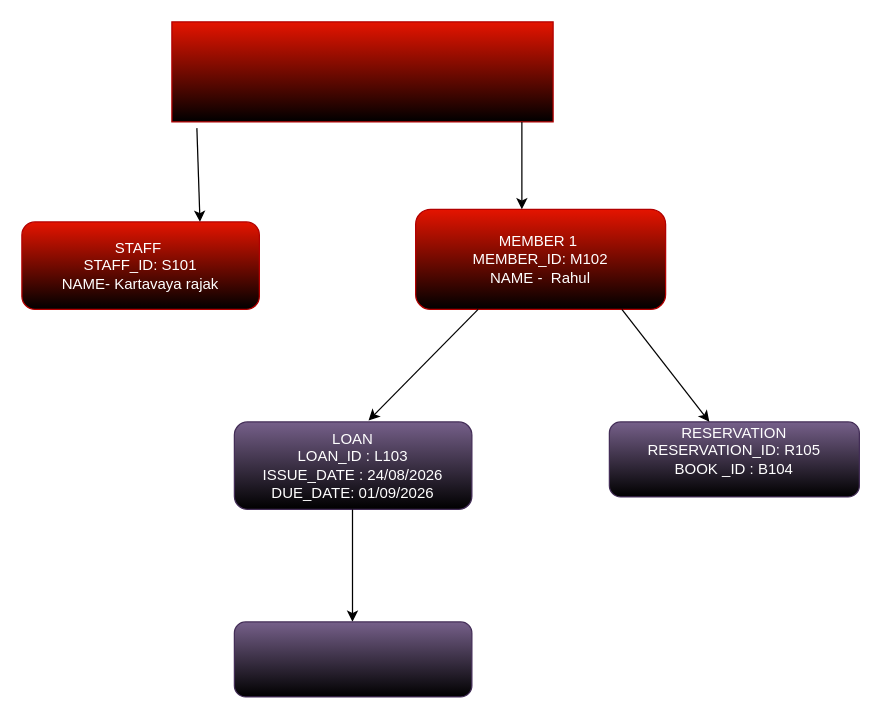
This 881x719 diagram has some shape labels left out. The centre of each missing label's shape, as x and y in pixels:
BOOK BOOK_ID: B104 TITLE: DATABASE AUTHOR : Axdii: the point at 352,659
LIBRARY MANAGEMENT SYSTEM: the point at 362,71
